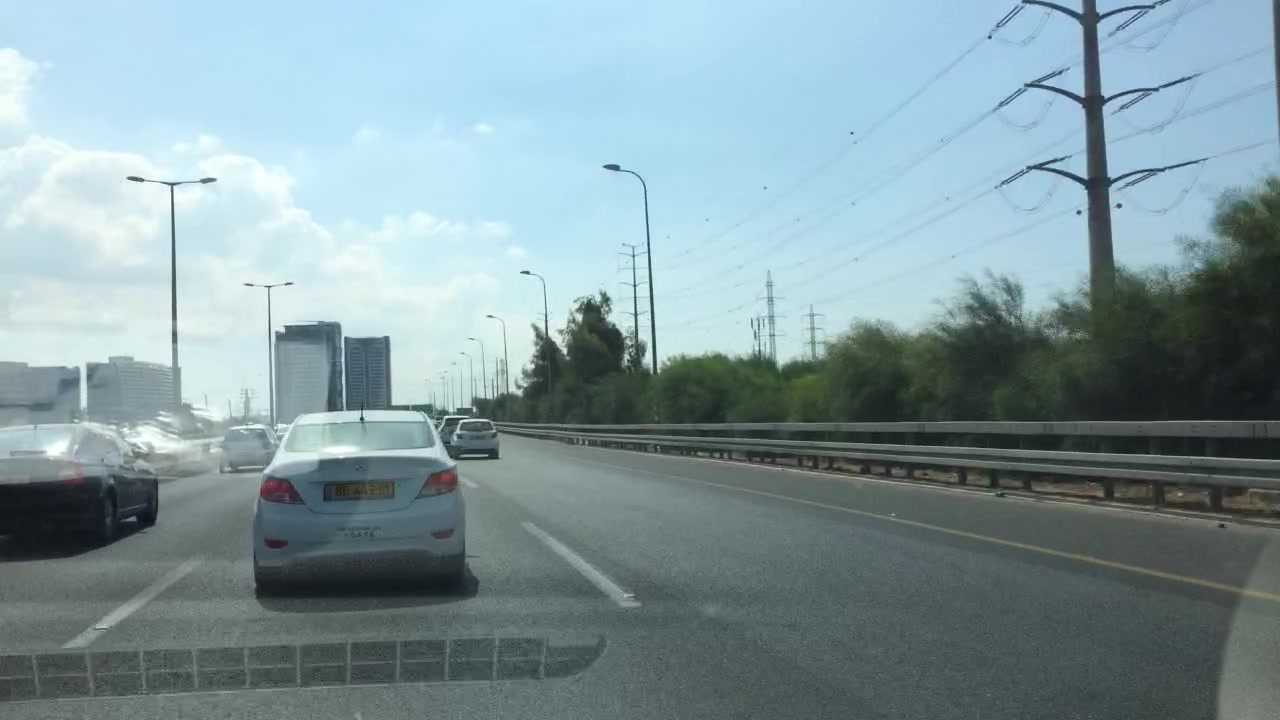licence: (322, 475, 398, 505)
